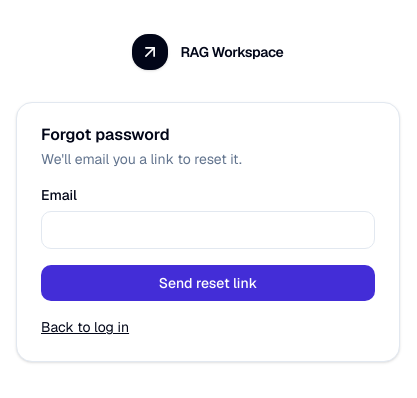
Test case: ForgotPasswordPage › requires a valid email before submitting
The width and height of the screenshot is (417, 398).
Click the button "Send reset link".
click(208, 283)  # box top-left (41, 265), bottom-right (375, 301)
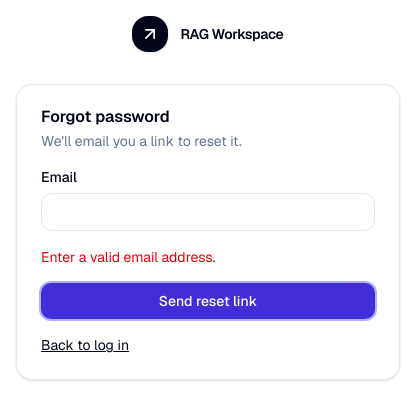
Expected: the text "Enter a valid email address." is shown, top-left (41, 248), bottom-right (215, 266)
